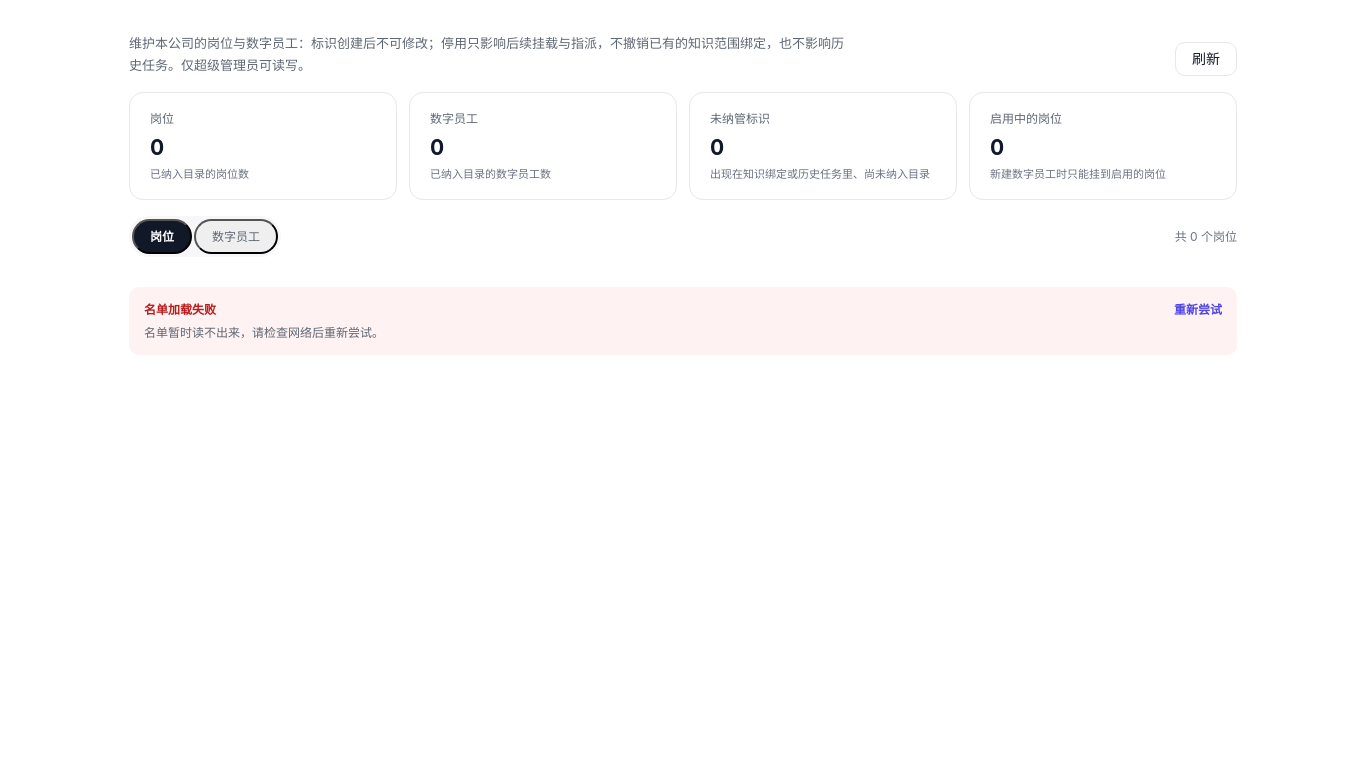
Test case: WorkforceSettingsPage › retries after a server error
The image size is (1366, 768).
Expected: the message shows "名单暂时读不出来", left=144, top=324, right=384, bottom=340
What coordinates should you click on to do the following:
click the button "重新尝试"
I would click on:
 (1198, 310)
Its box is left=1174, top=300, right=1222, bottom=320.
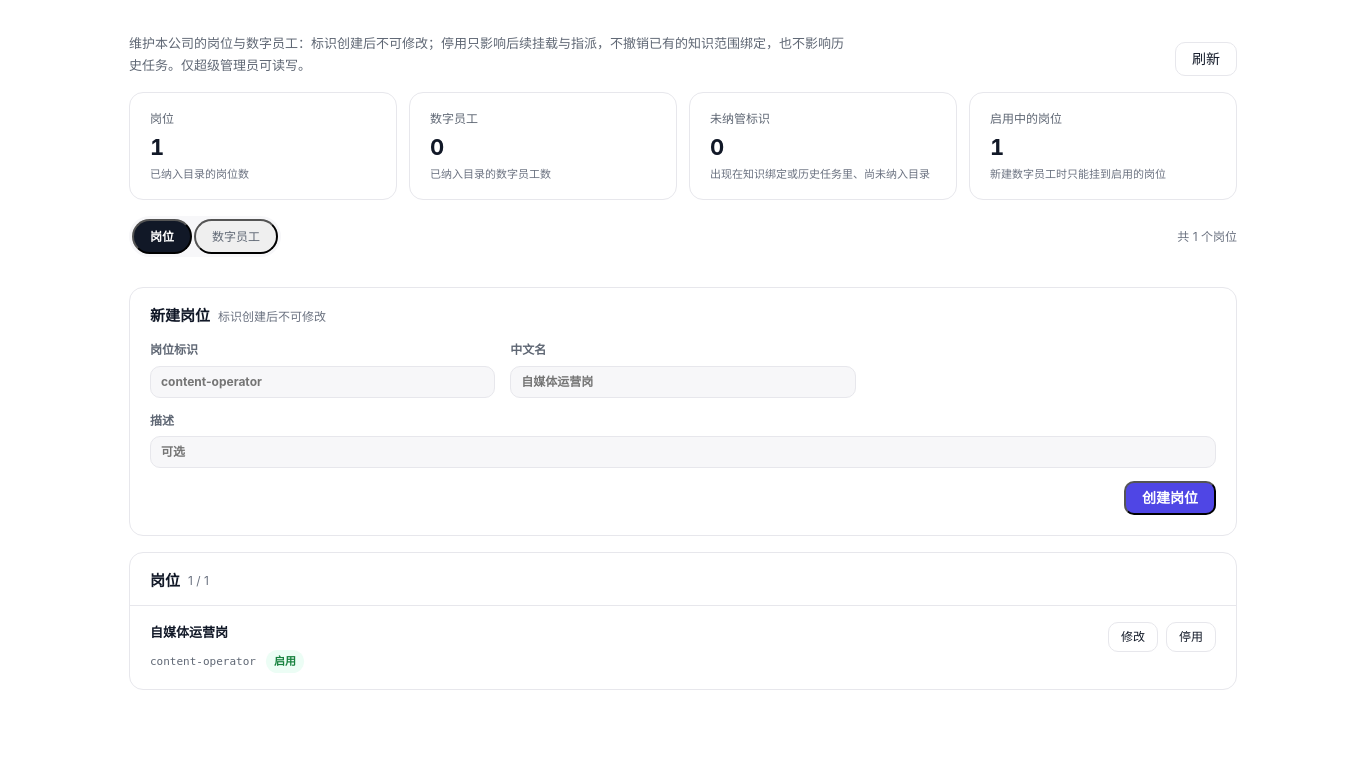
Expected: the text "自媒体运营岗" is shown, left=150, top=624, right=228, bottom=640
